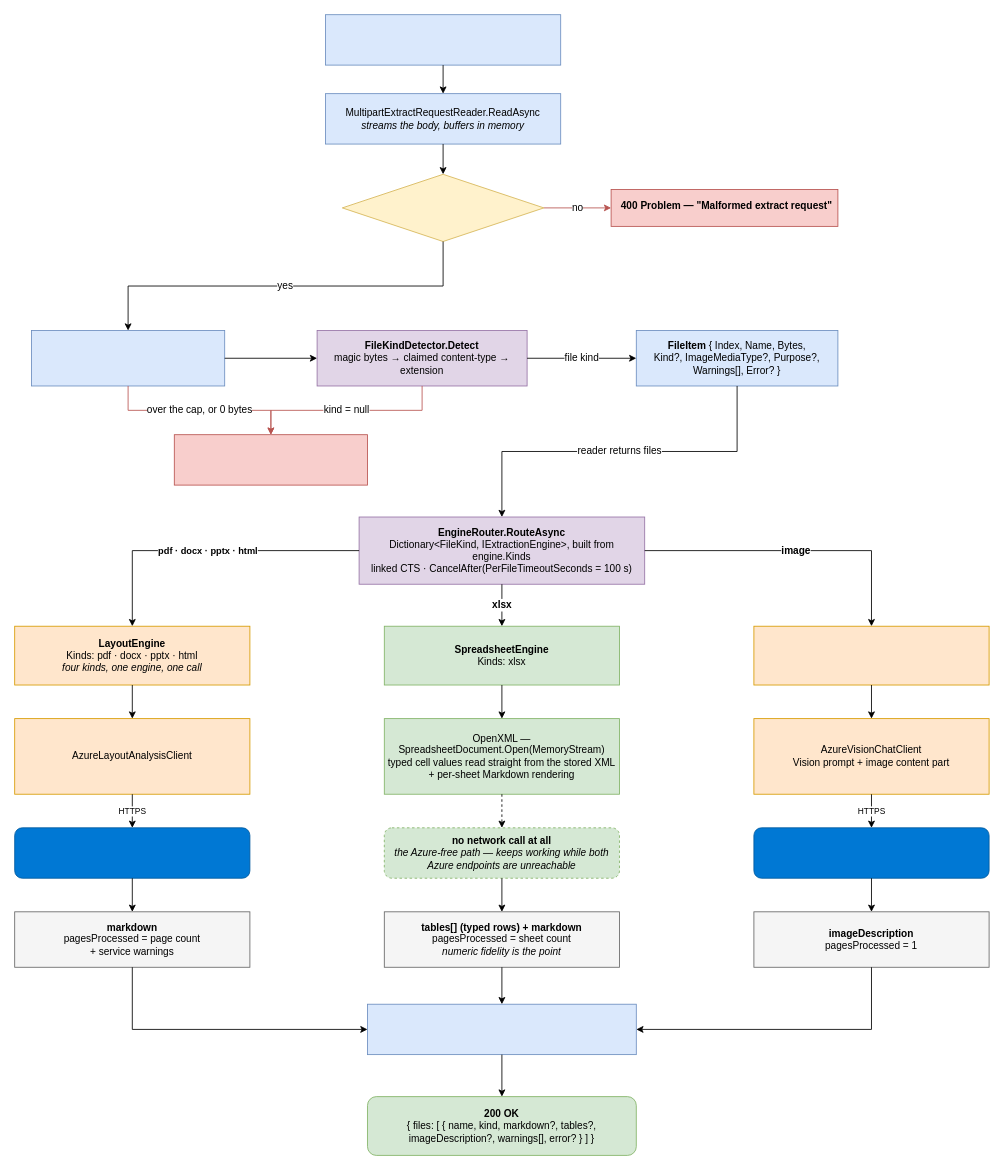
The diagram is 1004 pixels wide and 1170 high, and some of its shapes have lost their labels. Each missing label, with the box of its shape:
Azure AI Document Intelligence (built-in Foundry feature): (14, 827, 250, 878)
Azure OpenAI — gpt-5.4-mini model: (753, 827, 989, 878)
buffer the part stop at MaxFileBytes (50 MiB): (31, 330, 225, 386)
Error set here — no engine ever runs too_large · empty_file · unsupported_type: (173, 434, 368, 485)
POST /v1/extract multipart/form-data N parts named 'files': (325, 14, 561, 65)
request itself well-formed?: (341, 173, 544, 242)
results[file.Index] one entry per input file, in request order: (367, 1003, 636, 1055)
VisionEngine Kinds: image (png / jpeg) factual observations only: (753, 625, 989, 685)
